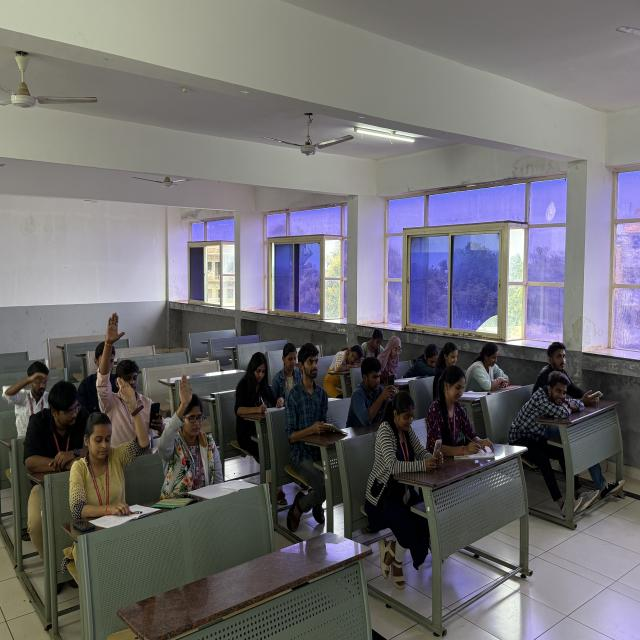Hand Rising: (154, 364, 230, 520), (83, 363, 155, 517), (96, 300, 161, 434)
Reading: (438, 337, 487, 404), (388, 328, 423, 385)
Sleeping: (325, 329, 366, 387)
Using Phone: (375, 396, 446, 498), (545, 340, 603, 411), (357, 353, 402, 418)
Writing: (435, 359, 499, 481), (234, 348, 290, 438)
